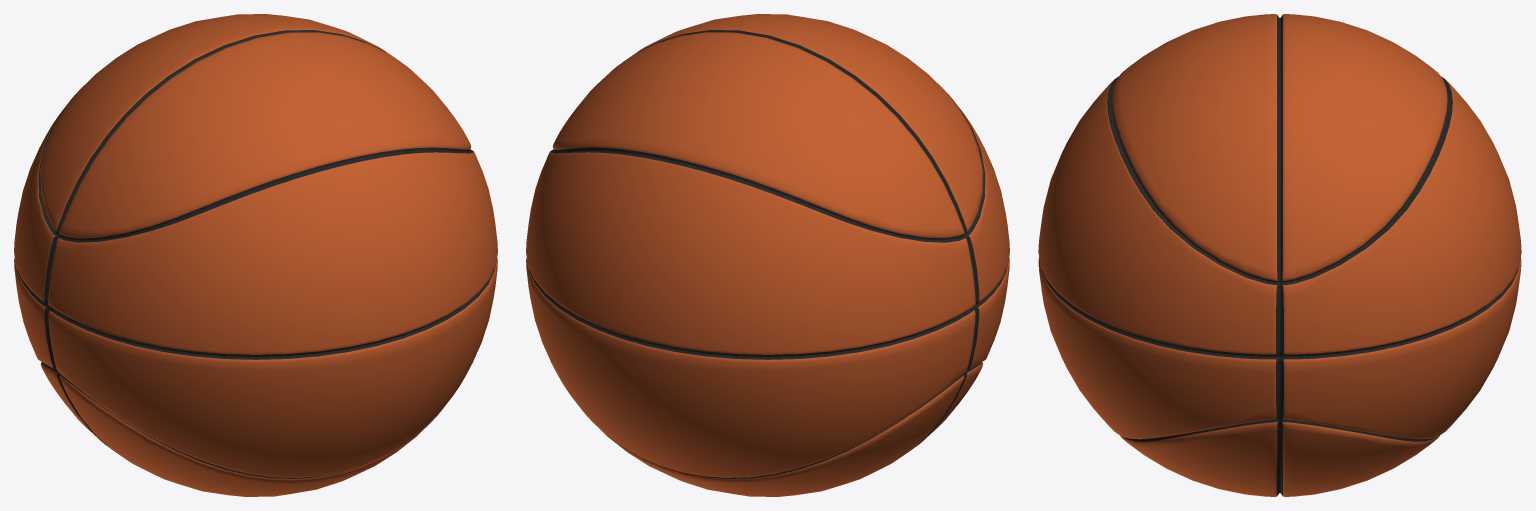
File: BasqueteLOW1to1.glb
The picture shows the model from 3 angles, left to right: view 1: azimuth 30°, elevation 25°; view 2: azimuth 150°, elevation 25°; view 3: azimuth 270°, elevation 25°; orthographic projection.
Parts seen in each view (by area): view 1: basquete; view 2: basquete; view 3: basquete.
Boxes of the visible parts, x1,y1,x2,y2 form: basquete: [14, 14, 497, 496]; basquete: [526, 14, 1009, 496]; basquete: [1038, 14, 1521, 496].
Bounding box in the file's own units: 0.5957 × 0.5955 × 0.5956.
